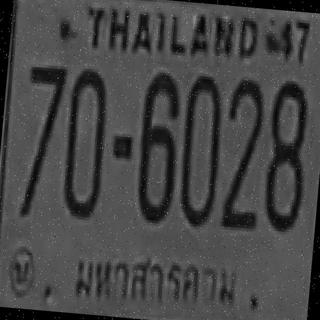N00: (60, 65, 109, 218), (176, 72, 225, 225)
N02: (219, 84, 266, 229), (218, 77, 266, 214)
N06: (132, 68, 181, 222)
N07: (17, 62, 66, 210), (21, 61, 66, 172), (22, 62, 66, 154)
N08: (261, 77, 310, 230)
P25: (64, 236, 248, 320)
